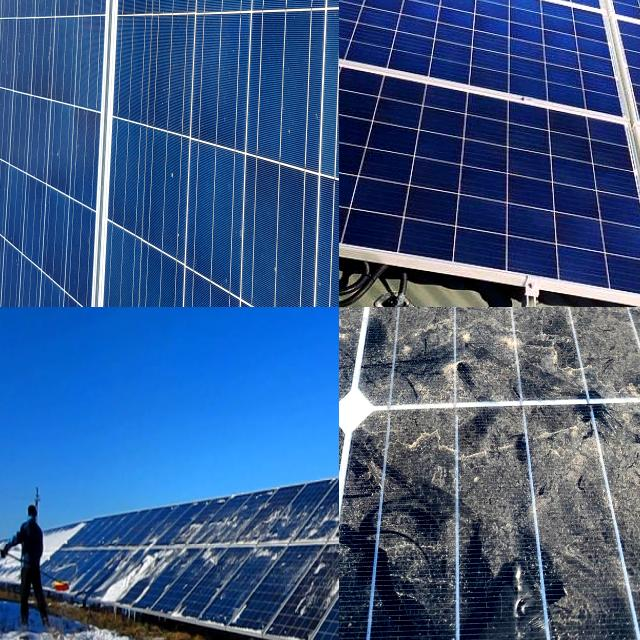crack: (339, 47, 640, 307), (339, 0, 640, 140), (339, 0, 609, 80), (339, 0, 591, 63), (348, 0, 589, 41), (548, 0, 640, 52)
dust: (361, 411, 640, 640), (371, 307, 609, 435), (339, 422, 423, 640), (339, 307, 447, 425), (394, 307, 563, 365), (339, 307, 413, 368), (339, 307, 640, 316), (339, 307, 362, 370)
panel: (178, 506, 294, 561), (170, 596, 282, 640), (100, 531, 155, 608), (297, 560, 339, 636), (292, 484, 316, 552), (320, 491, 339, 547)
